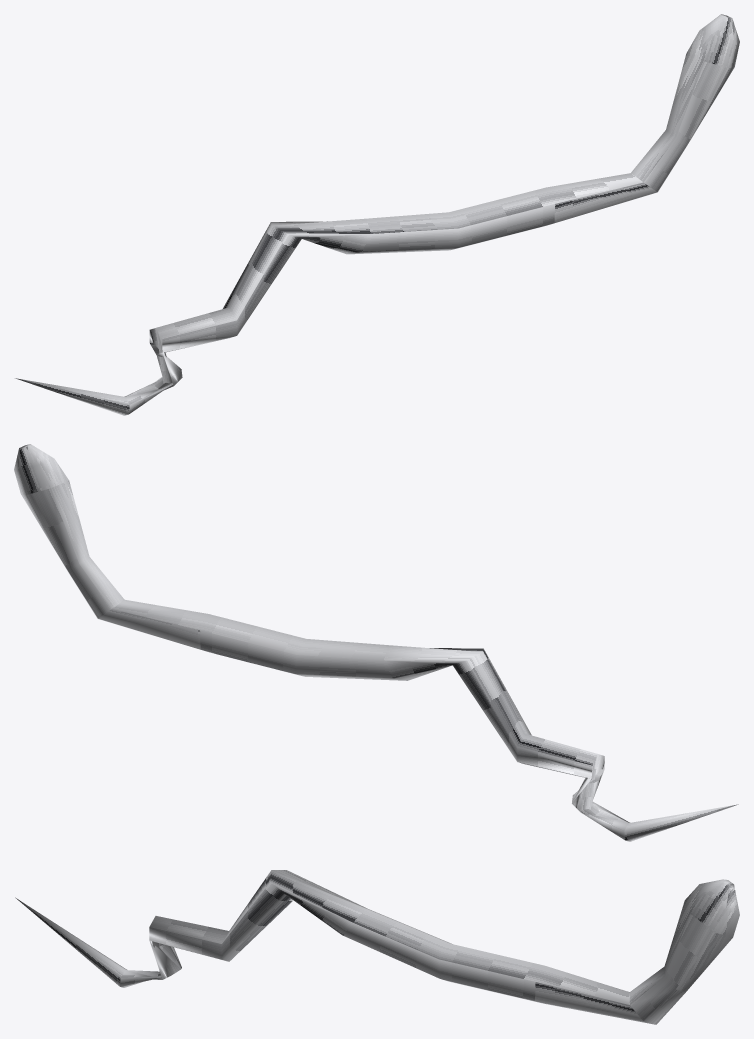
File: snake_000015.obj
3 views of the same model, one above another, from view 1: azimuth 30°, elevation 25°; view 2: azimuth 150°, elevation 25°; view 3: azimuth 330°, elevation 25° (orthographic).
Visible parts, largest first — view 1: Cylinder; view 2: Cylinder; view 3: Cylinder.
Part boxes in pixels (x1,y1,x2,y2): Cylinder: [15, 14, 739, 415]; Cylinder: [14, 444, 738, 841]; Cylinder: [15, 870, 739, 1024].
Bounding box in the file's own units: 8.39 × 2.8 × 0.3671.
